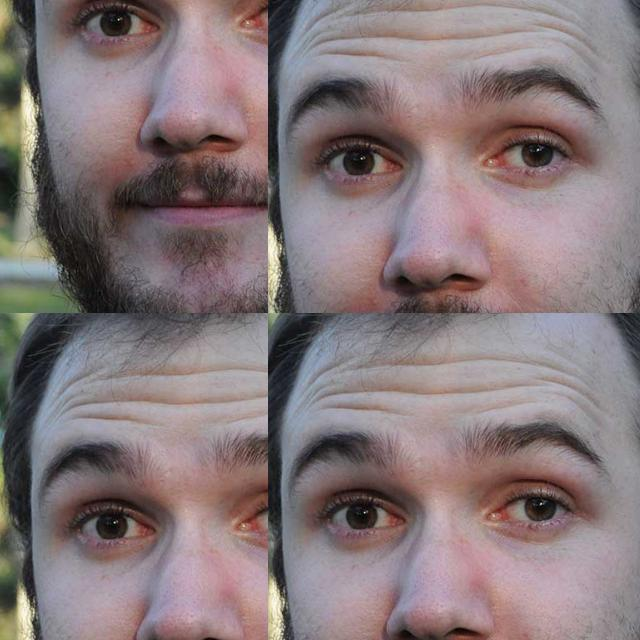chin: (490, 280, 520, 296)
forehead: (323, 382, 402, 424), (534, 358, 592, 408), (402, 344, 468, 374), (460, 378, 526, 408), (478, 344, 530, 378), (310, 352, 350, 388), (437, 80, 477, 104), (482, 81, 514, 109), (551, 87, 585, 113), (431, 104, 479, 120), (558, 67, 594, 87), (520, 91, 546, 115), (524, 67, 550, 87)
frown_line: (511, 115, 534, 142), (496, 115, 510, 144)
gummy_smile: (548, 198, 576, 228), (462, 197, 486, 230), (257, 93, 268, 153)
masseter: (122, 112, 152, 188)
